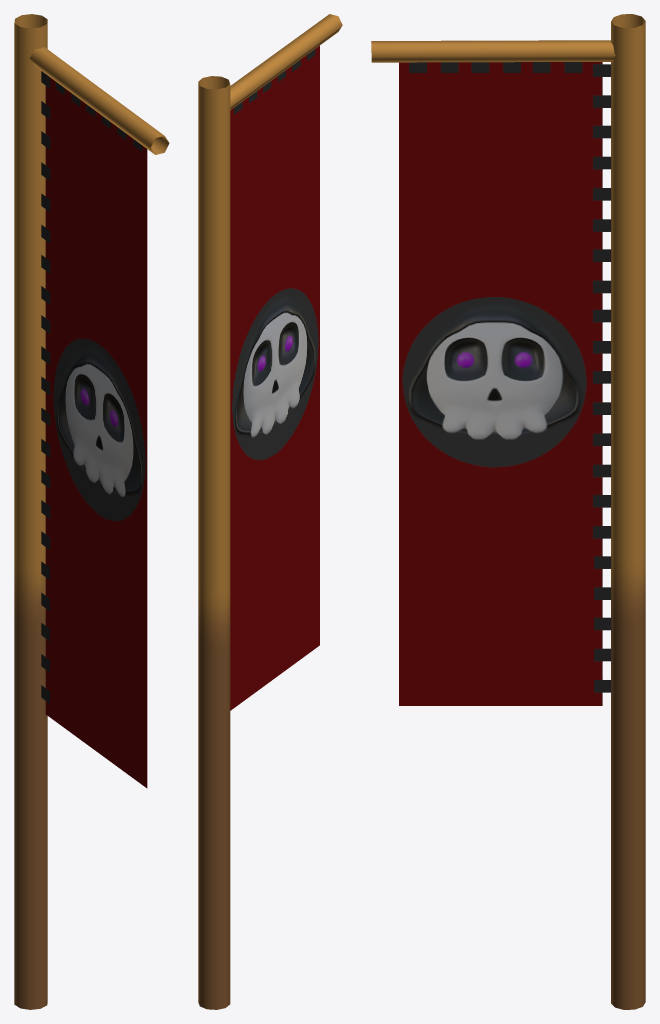
File: Banderin.fbx
3 views of the same model, side by side, from view 1: azimuth 30°, elevation 25°; view 2: azimuth 150°, elevation 25°; view 3: azimuth 270°, elevation 25° (orthographic). The views are drawn at different scales.
Parts seen in each view (by area): view 1: Palos; view 2: Palos; view 3: Palos.
Boxes of the visible parts, bbox=[...] form: Palos: bbox=[14, 14, 169, 1009]; Palos: bbox=[198, 14, 342, 1009]; Palos: bbox=[371, 14, 645, 1009].
Size of the model in its own units: 2.05 by 16.84 by 66.58.
Materials: 1 (1 with a texture image).
